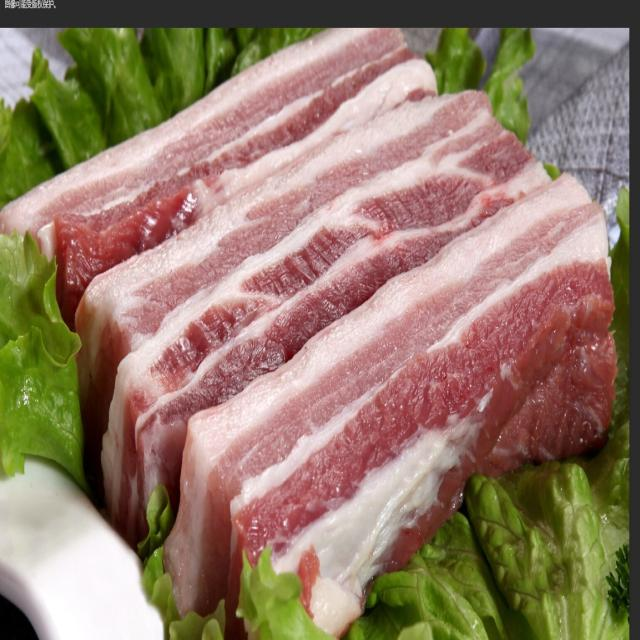pork: (156, 174, 616, 617), (74, 84, 545, 475), (0, 25, 432, 334)
